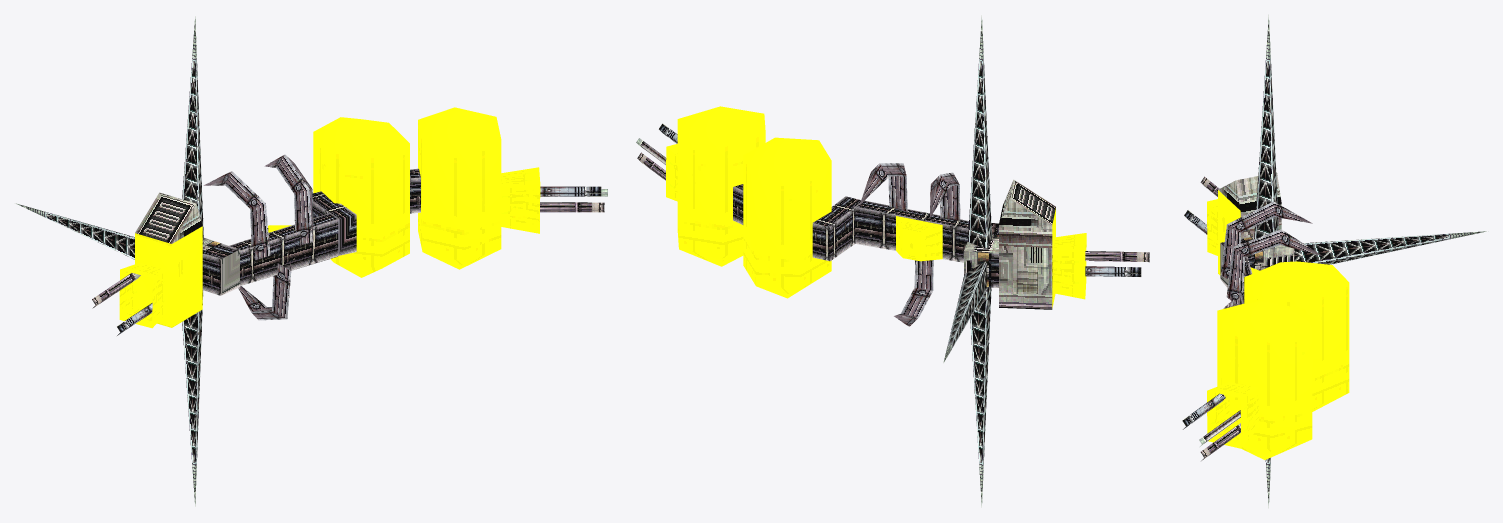
The model's file is ttender_cmp.gltf.
The picture shows the model from 3 angles, left to right: view 1: azimuth 30°, elevation 25°; view 2: azimuth 150°, elevation 25°; view 3: azimuth 270°, elevation 25°; orthographic projection.
Parts seen in each view (by area): view 1: Root, claw01, claw02, claw03; view 2: Root, Repair Base, claw01, claw03, claw02; view 3: Root, claw01, claw02.
Boxes of the visible parts, x1,y1,x2,y2 form: Root: (15, 16, 607, 506); claw01: (264, 154, 313, 245); claw02: (203, 171, 270, 260); claw03: (238, 261, 291, 320); Root: (636, 15, 1149, 507); Repair Base: (896, 216, 942, 261); claw01: (859, 163, 907, 211); claw03: (894, 260, 933, 326); claw02: (930, 172, 960, 220); Root: (1182, 15, 1486, 507); claw01: (1226, 229, 1321, 305); claw02: (1220, 201, 1312, 279).
Bounding box in the file's own units: 31.25 × 28.61 × 16.27.
Materials: 9 (9 with a texture image).
